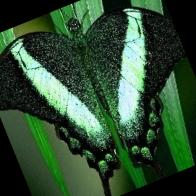butterfly: (0, 6, 186, 196)
